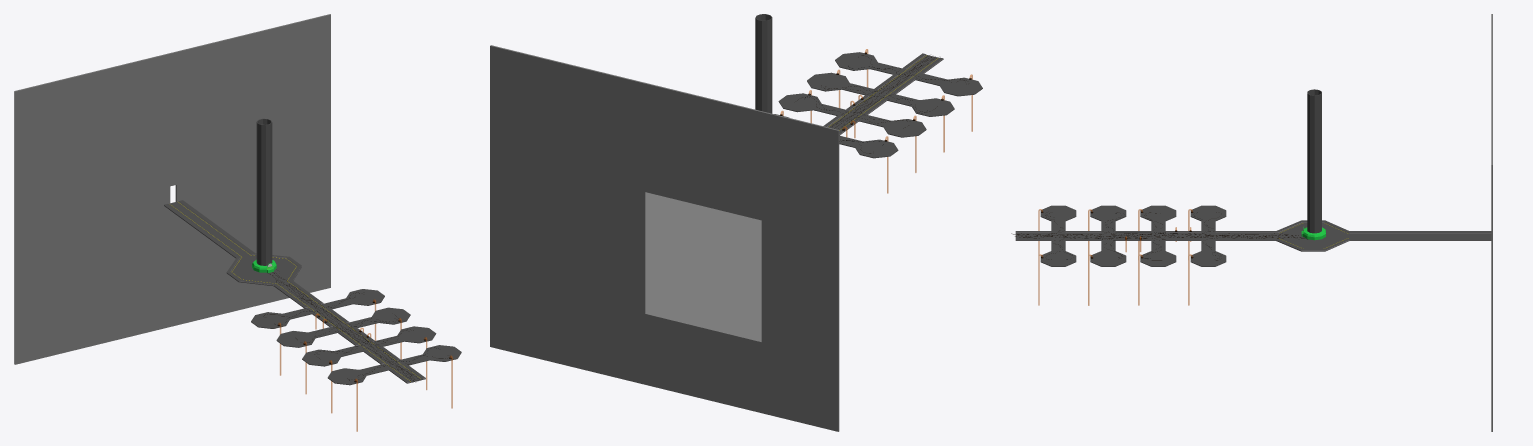
File: pasillo.fbx
3 views of the same model, side by side, from view 1: azimuth 30°, elevation 25°; view 2: azimuth 150°, elevation 25°; view 3: azimuth 270°, elevation 25° (orthographic). The views are drawn at different scales.
Visible parts, largest first — view 1: Pared 01, Suelo, Pilar; view 2: Pared 01, Pared 02, Suelo, Pilar; view 3: Suelo, Pilar, Pared 01.
Part boxes in pixels (x1,y1,x2,y2): Pared 01: [14, 14, 330, 364]; Suelo: [164, 200, 461, 385]; Pilar: [252, 118, 276, 272]; Pared 01: [490, 45, 839, 431]; Pared 02: [645, 192, 761, 341]; Suelo: [774, 52, 982, 158]; Pilar: [755, 14, 772, 113]; Suelo: [1015, 205, 1491, 266]; Pilar: [1301, 89, 1325, 240]; Pared 01: [1491, 14, 1492, 431].
Bounding box in the file's own units: 9992 × 8252 × 14201.
